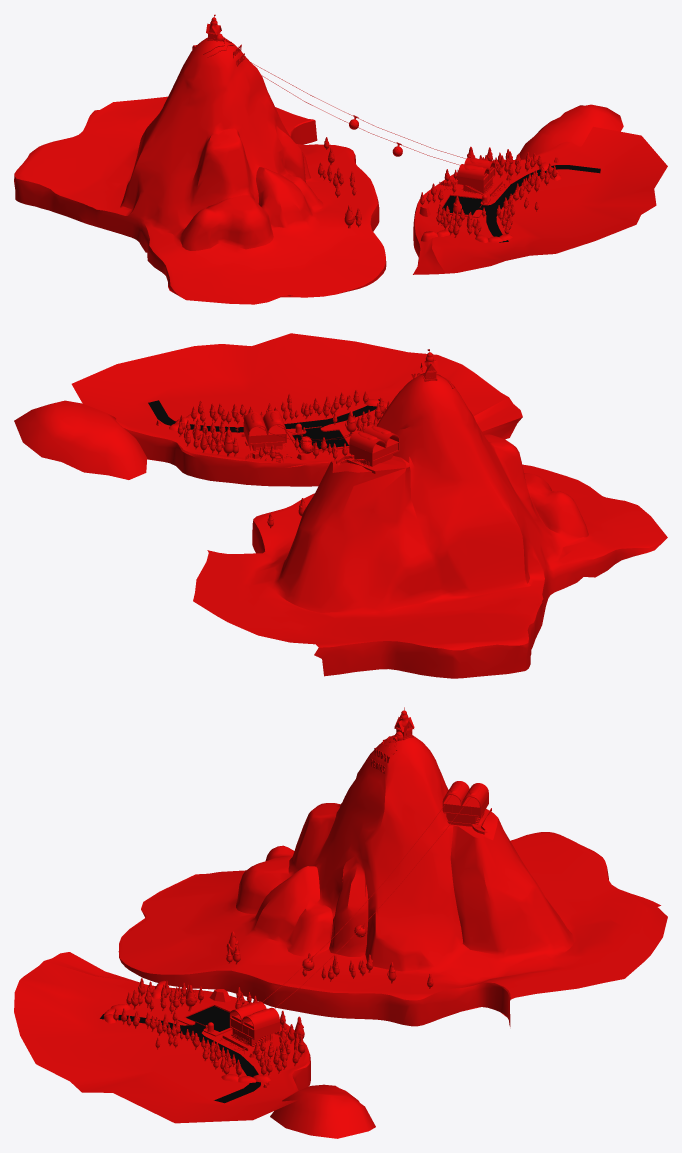
File: Individual_PudgyPeaks_02.glb
3 views of the same model, one above another, from view 1: azimuth 30°, elevation 25°; view 2: azimuth 150°, elevation 25°; view 3: azimuth 270°, elevation 25° (orthographic). The views are drawn at different scales.
Parts seen in each view (by area): view 1: pasted__pasted__pasted__Berg, pasted__pasted__SnowPatch10, pasted__pasted__Building_Gloondola_Top2; view 2: pasted__pasted__pasted__Berg, pasted__pasted__SnowPatch10, pasted__pasted__Building_Gloondola_Top, pasted__pasted__Building_Gloondola_Top2; view 3: pasted__pasted__pasted__Berg, pasted__pasted__SnowPatch10, pasted__pasted__Building_Gloondola_Top, pasted__pasted__Building_Gloondola_Top2.
Boxes of the visible parts, x1=… form: pasted__pasted__pasted__Berg: x1=14, y1=37, x2=667, y2=304; pasted__pasted__SnowPatch10: x1=519, y1=104, x2=623, y2=159; pasted__pasted__Building_Gloondola_Top2: x1=458, y1=157, x2=495, y2=194; pasted__pasted__pasted__Berg: x1=71, y1=333, x2=667, y2=678; pasted__pasted__SnowPatch10: x1=14, y1=400, x2=147, y2=479; pasted__pasted__Building_Gloondola_Top: x1=336, y1=424, x2=399, y2=473; pasted__pasted__Building_Gloondola_Top2: x1=243, y1=410, x2=286, y2=450; pasted__pasted__pasted__Berg: x1=14, y1=735, x2=667, y2=1123; pasted__pasted__SnowPatch10: x1=270, y1=1084, x2=375, y2=1138; pasted__pasted__Building_Gloondola_Top: x1=442, y1=781, x2=491, y2=834; pasted__pasted__Building_Gloondola_Top2: x1=229, y1=1001, x2=279, y2=1046.
Size of the model in its own units: 175 by 62.97 by 158.
